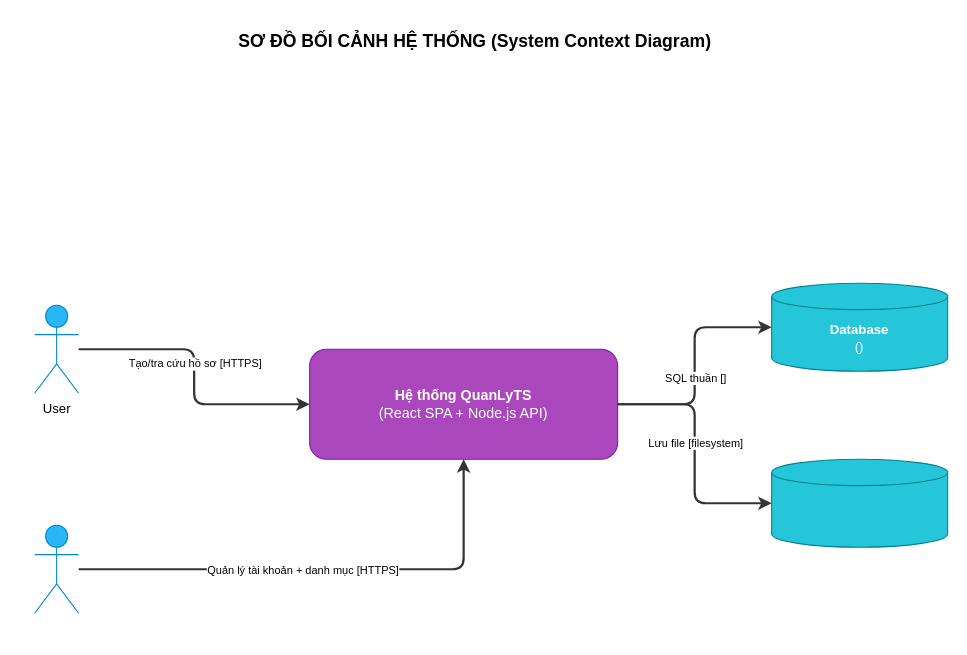
Image size: 967x655. Some labels were removed from this diagram. The centre of each missing label's shape, as x and y in pixels:
/uploads/ File storage: (859,502)
Quản trị viên: (56,568)
